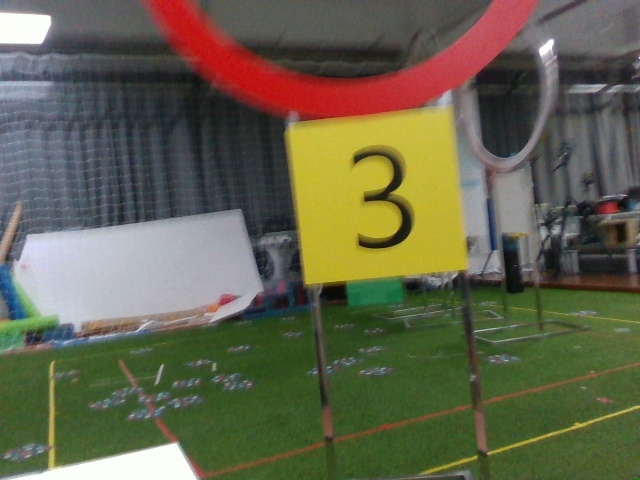target: (296, 117, 457, 269)
